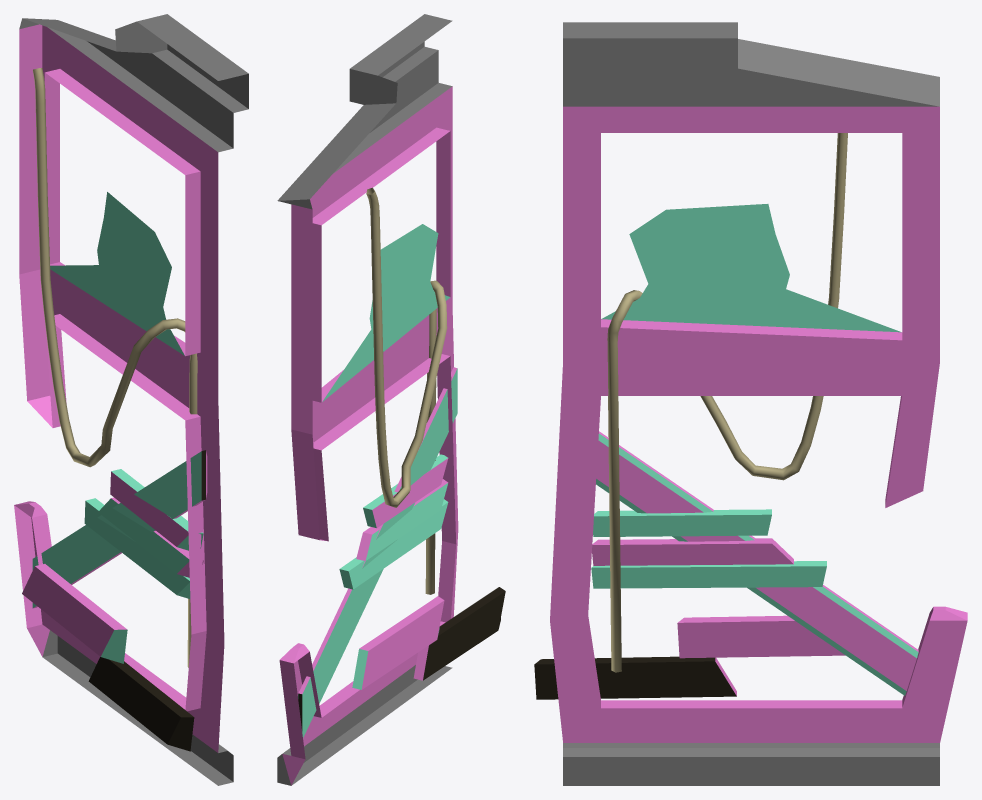
Rendered from Wall_Broken_01.fbx.
3 renders of one model, left to right at view 1: azimuth 30°, elevation 25°; view 2: azimuth 150°, elevation 25°; view 3: azimuth 270°, elevation 25°, orthographic. The views are drawn at different scales.
Visible parts, largest first — view 1: Object033; view 2: Object033; view 3: Object033.
Boxes of the visible parts, box(x1,y1,x2,y2) form: Object033: box(14, 14, 248, 785); Object033: box(277, 14, 505, 785); Object033: box(534, 22, 967, 785).
Size of the model in its own units: 0.2667 by 2.2 by 1.14.
